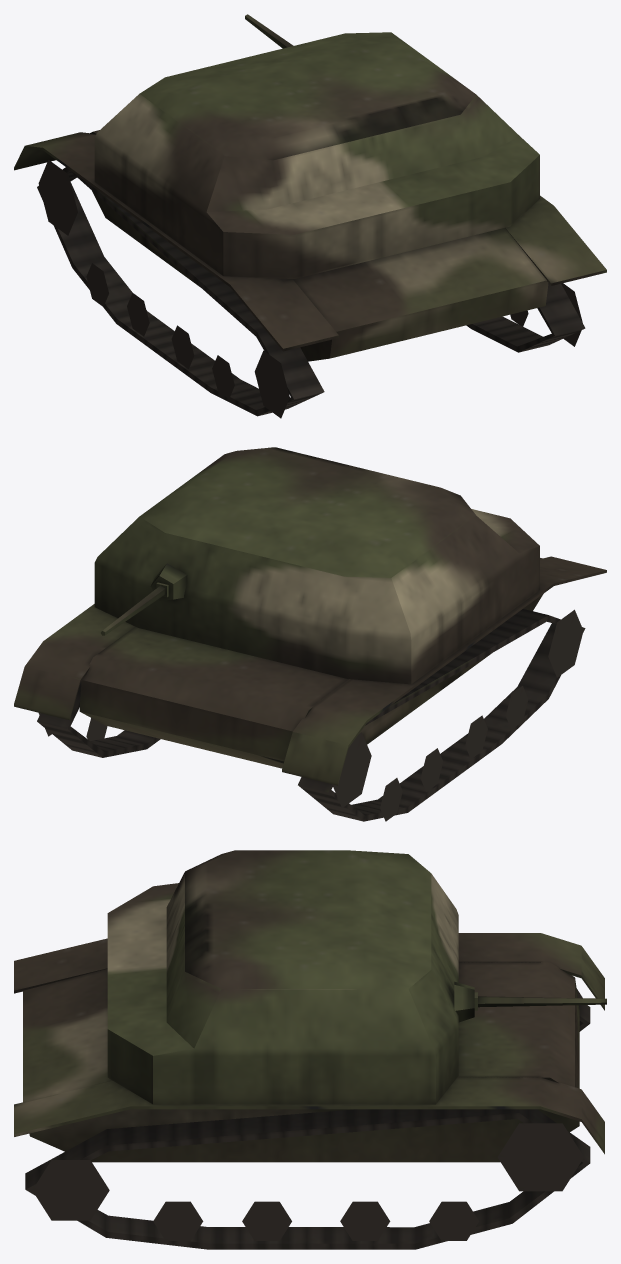
File: TKS_LOW.fbx
3 views of the same model, one above another, from view 1: azimuth 30°, elevation 25°; view 2: azimuth 150°, elevation 25°; view 3: azimuth 270°, elevation 25° (orthographic). The views are drawn at different scales.
Parts seen in each view (by area): view 1: Chassis, Chenille_Gauche_01, Chenille_Droite_01, Roue_G1, Roue_G6, Roue_G4, Roue_G3, Roue_G5, Roue_G2; view 2: Chassis, Chenille_Gauche_01, Chenille_Droite_01, Roue_G1, Roue_G6, Tourelle_01, Roue_G2, Roue_G4, Roue_G5, Roue_G3, Canon_01; view 3: Chassis, Chenille_Droite_01, Roue_D1, Roue_D6, Roue_D2, Roue_D3, Roue_D4, Roue_D5, Canon_01, Tourelle_01.
Boxes of the visible parts, box(x1,y1,x2,y2) form: Chassis: box(14, 32, 606, 361); Chenille_Gauche_01: box(37, 167, 324, 416); Chenille_Droite_01: box(466, 283, 585, 352); Roue_G1: box(38, 160, 77, 235); Roue_G6: box(254, 350, 289, 418); Roue_G4: box(171, 325, 194, 369); Roue_G3: box(127, 293, 149, 336); Roue_G5: box(212, 355, 234, 398); Roue_G2: box(86, 263, 108, 306); Chassis: box(14, 447, 606, 785); Chenille_Gauche_01: box(298, 609, 585, 821); Chenille_Droite_01: box(37, 681, 160, 757); Roue_G1: box(332, 732, 371, 807); Roue_G6: box(548, 609, 583, 677); Tourelle_01: box(150, 563, 187, 600); Roue_G2: box(380, 778, 402, 821); Roue_G4: box(465, 715, 487, 758); Roue_G5: box(505, 686, 528, 729); Roue_G3: box(420, 748, 443, 791); Canon_01: box(101, 585, 165, 635); Chassis: box(14, 850, 604, 1162); Chenille_Droite_01: box(25, 1109, 590, 1249); Roue_D1: box(497, 1123, 583, 1191); Roue_D6: box(32, 1160, 109, 1220); Roue_D2: box(429, 1201, 478, 1240); Roue_D3: box(340, 1201, 390, 1240); Roue_D4: box(242, 1201, 291, 1240); Roue_D5: box(153, 1201, 203, 1240); Canon_01: box(478, 996, 606, 1007); Tourelle_01: box(454, 981, 474, 1022).
Bounding box in the file's own units: 180 × 260 × 127.
Materials: 1 (1 with a texture image).
